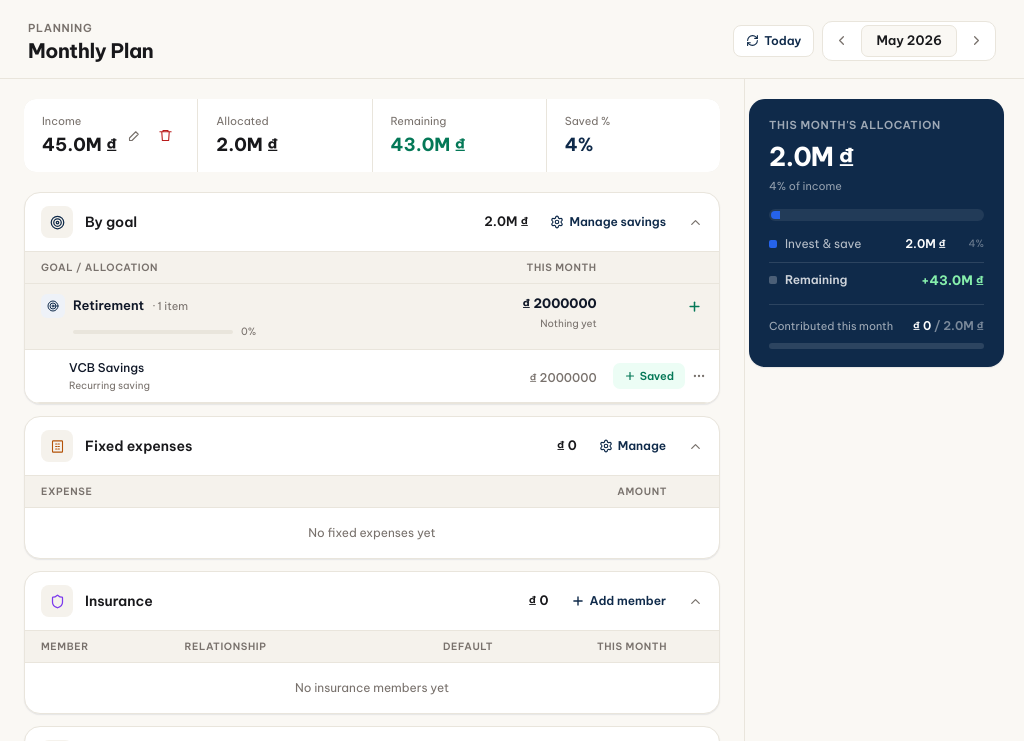
Scenario: DesktopPlanningView — recurring deep-link edit › the "Manage savings" button opens the manager in LIST mode (no deep-link)
The width and height of the screenshot is (1024, 741).
Click the button with test id "desktop-manage-savings" at (608, 222), box 540,208 -> 676,236
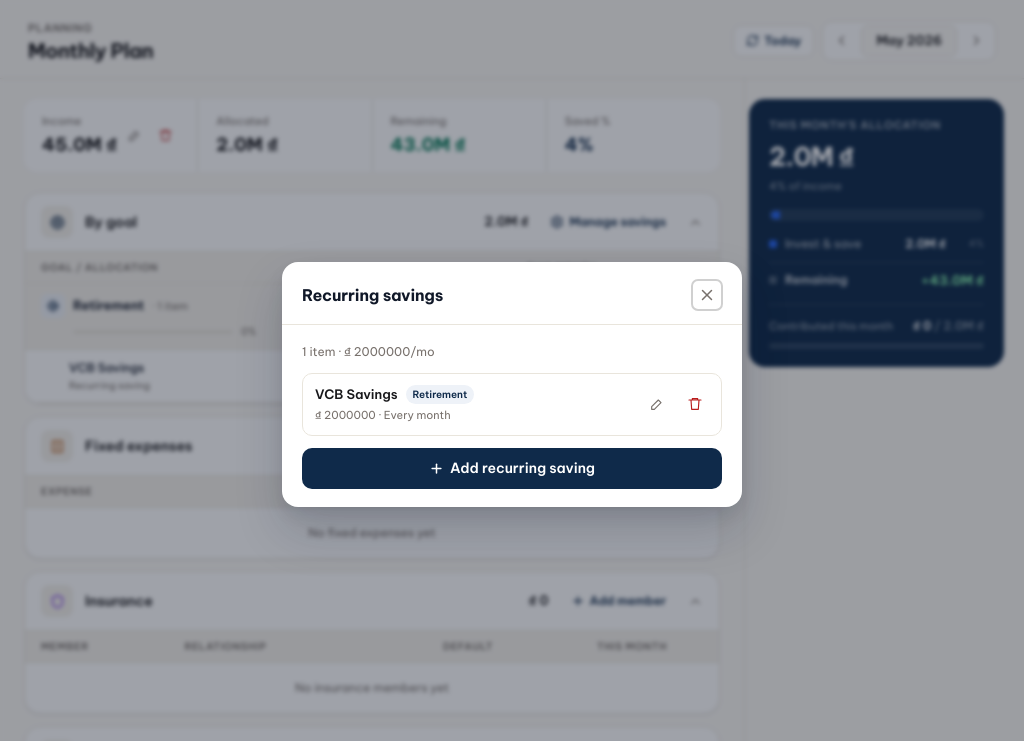
Check: the button with test id "rs-add" is shown, box 302,448 -> 722,488
